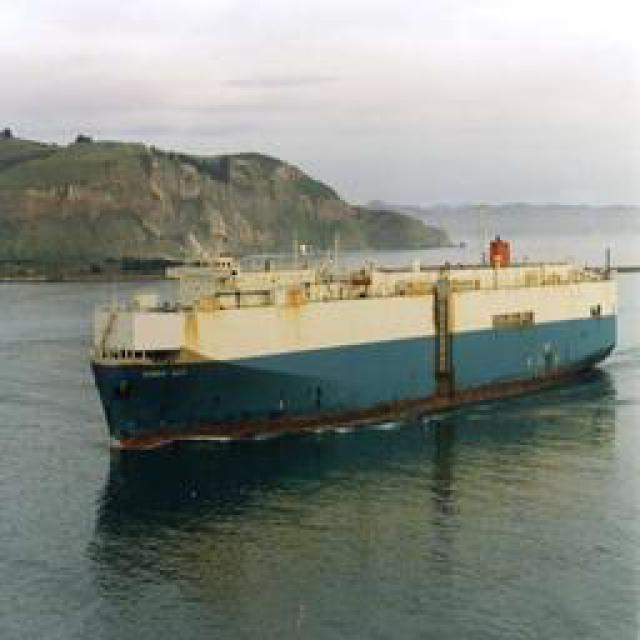Ship: (106, 259, 609, 454)
